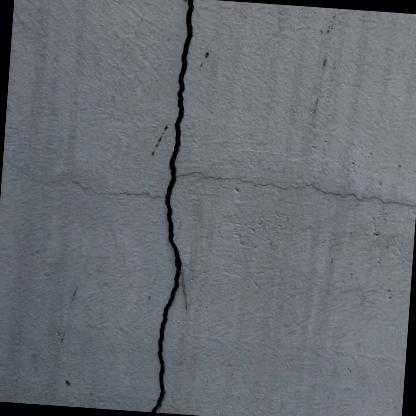crack: (152, 0, 194, 413)
